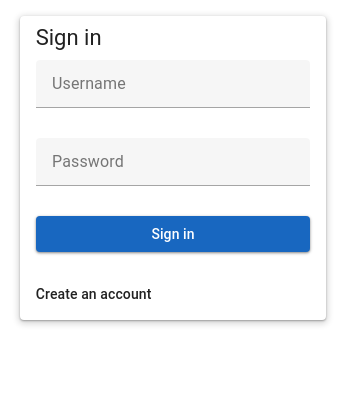
Feature 1 — User Authentication & Session Management › US-1.2 — Sign in › User signs in with invalid password
The width and height of the screenshot is (347, 403).
In the field labelled "Username": (173, 84) 36,60 -> 310,108, type "jdoe"
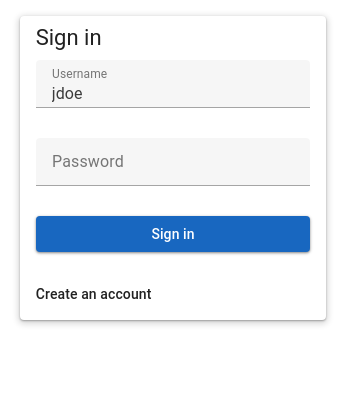
In the password field labelled "Password": (173, 162) 36,138 -> 310,186, type "wrong-password"
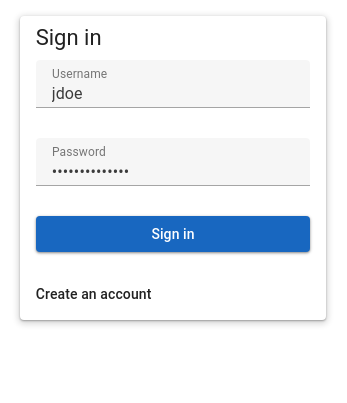
Submit the form, box 36,60 -> 310,252
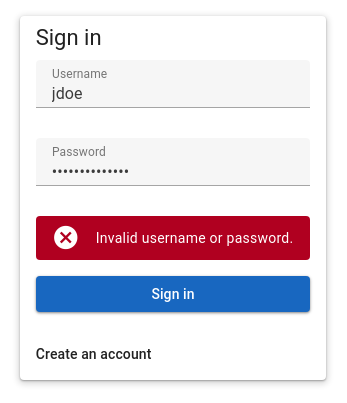
Result: the message "Invalid username or password." is shown at 36,216 -> 310,260
Result: the text "Invalid username or password." is shown at 96,226 -> 294,250
